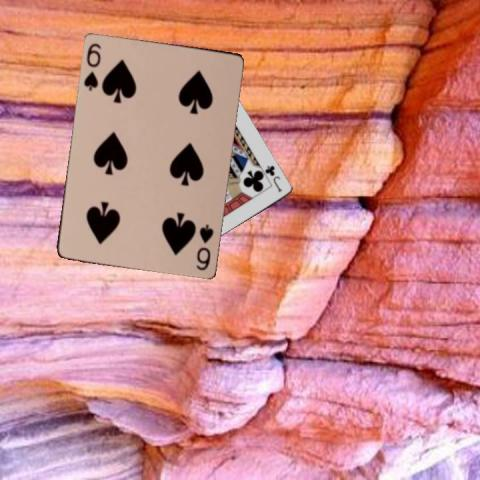6s: (81, 39, 102, 92), (192, 221, 214, 271)
Jc: (262, 162, 283, 193)
